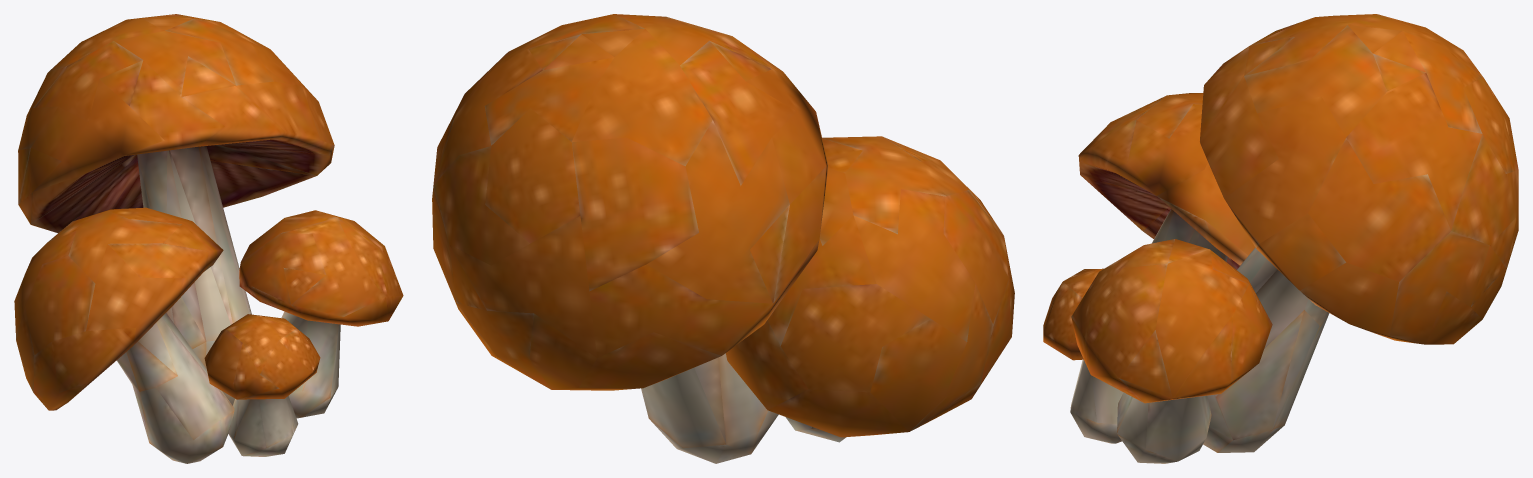
File: champignons-semis.glb
3 renders of one model, left to right at view 1: azimuth 30°, elevation 25°; view 2: azimuth 150°, elevation 25°; view 3: azimuth 270°, elevation 25°, orthographic. The views are drawn at different scales.
Parts seen in each view (by area): view 1: champignons-semis; view 2: champignons-semis; view 3: champignons-semis.
Boxes of the visible parts, left/top/right/bottom form: champignons-semis: left=14, top=14, right=403, bottom=463; champignons-semis: left=432, top=14, right=1014, bottom=463; champignons-semis: left=1043, top=14, right=1518, bottom=463.
Size of the model in its own units: 2 by 1.98 by 2.
Materials: 1 (1 with a texture image).
